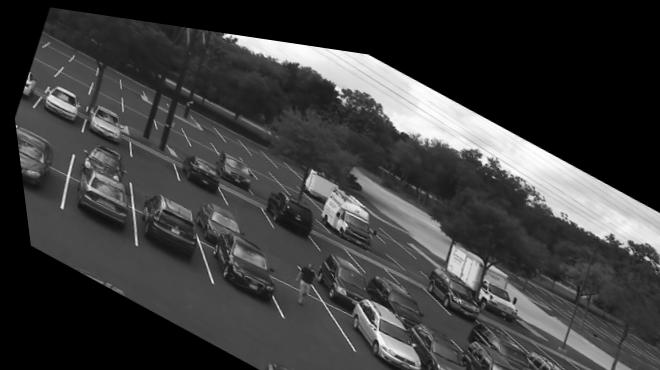empty: (269, 269, 349, 341), (127, 135, 178, 177), (19, 113, 71, 152), (387, 263, 440, 299), (258, 233, 300, 277), (537, 334, 588, 370), (343, 240, 393, 272), (219, 183, 264, 218), (562, 344, 611, 370), (364, 214, 407, 243), (499, 315, 542, 342), (134, 172, 174, 199), (309, 226, 350, 252), (152, 117, 190, 144), (52, 70, 91, 96), (118, 100, 155, 127), (424, 306, 463, 330), (249, 163, 285, 187), (87, 85, 120, 111), (280, 177, 315, 201), (148, 105, 180, 130), (190, 107, 219, 133), (89, 78, 123, 100), (179, 119, 211, 141), (60, 63, 93, 84), (33, 47, 63, 70), (267, 160, 299, 181), (93, 63, 121, 87), (30, 56, 59, 79), (122, 90, 151, 113), (208, 131, 238, 153), (219, 124, 246, 147), (184, 131, 215, 151), (239, 148, 270, 168), (69, 52, 98, 72), (266, 148, 295, 168), (118, 74, 144, 95), (244, 137, 269, 157), (47, 41, 71, 59), (247, 177, 275, 188), (28, 64, 46, 81), (171, 141, 193, 153), (37, 37, 46, 46)
occupied: (334, 288, 412, 363), (204, 224, 268, 296), (135, 188, 192, 260), (398, 312, 463, 370), (463, 310, 528, 363), (421, 256, 481, 312), (72, 162, 121, 228), (357, 264, 418, 316), (316, 178, 367, 240), (12, 123, 53, 191), (259, 184, 309, 239), (310, 245, 363, 295), (454, 328, 515, 370), (191, 198, 235, 240), (522, 336, 567, 370), (212, 145, 252, 183), (177, 151, 215, 190), (86, 103, 119, 141), (42, 85, 76, 121), (244, 350, 304, 370), (83, 145, 118, 175), (19, 71, 35, 101)
